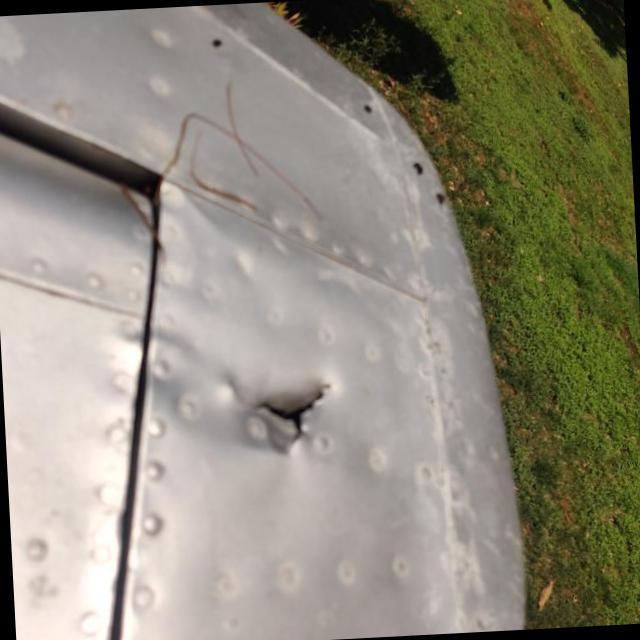Rupture: (237, 364, 338, 472)
